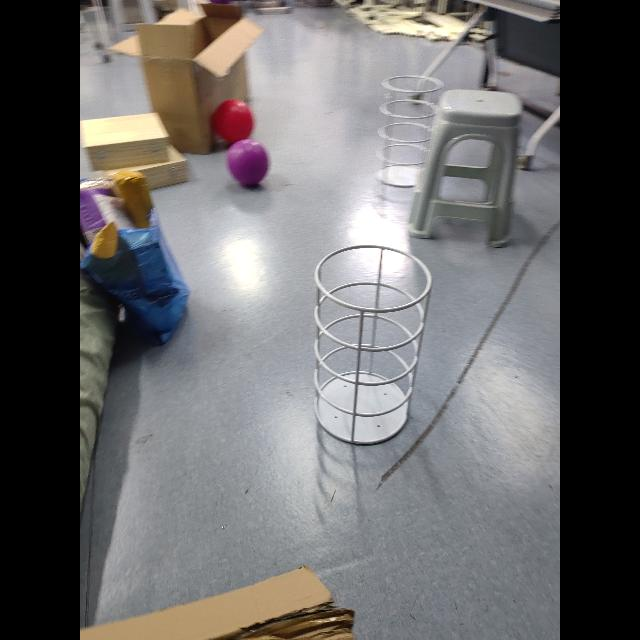S: (308, 240, 434, 450)
